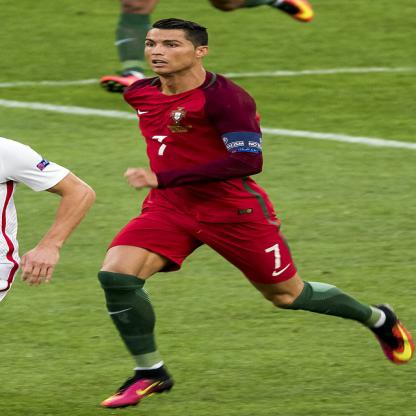football player standing: (80, 23, 415, 403)
